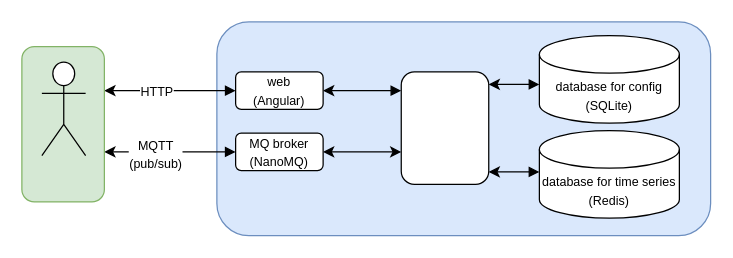
Image size: 733x258. Some labels were removed from this diagram. Each missing label, with the centre of its shape:
"app (Python)" belongs at point 444,127.
"client" belongs at point 63,108.
